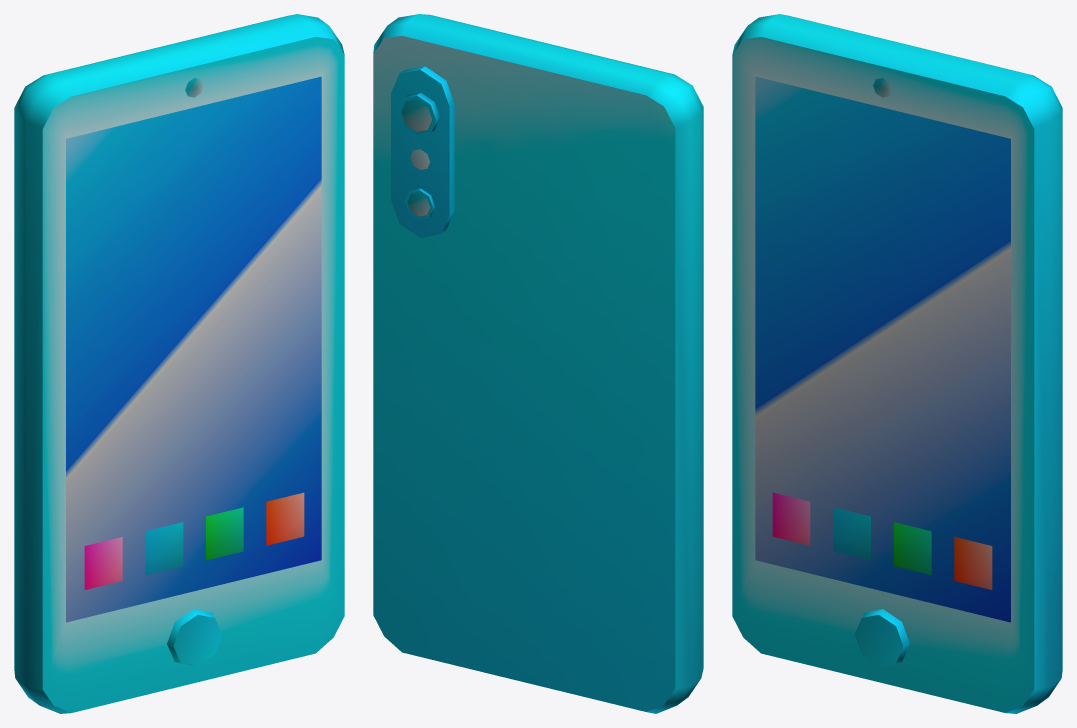
File: smartphone.glb
3 views of the same model, side by side, from view 1: azimuth 30°, elevation 25°; view 2: azimuth 150°, elevation 25°; view 3: azimuth 330°, elevation 25° (orthographic).
Parts seen in each view (by area): view 1: smartphone3; view 2: smartphone3; view 3: smartphone3.
Part boxes in pixels (x1,y1,x2,y2): smartphone3: [14, 14, 344, 713]; smartphone3: [373, 14, 703, 713]; smartphone3: [732, 14, 1062, 713].
Size of the model in its own units: 0.0785 by 0.15 by 0.0178.
Materials: 1 (1 with a texture image).
